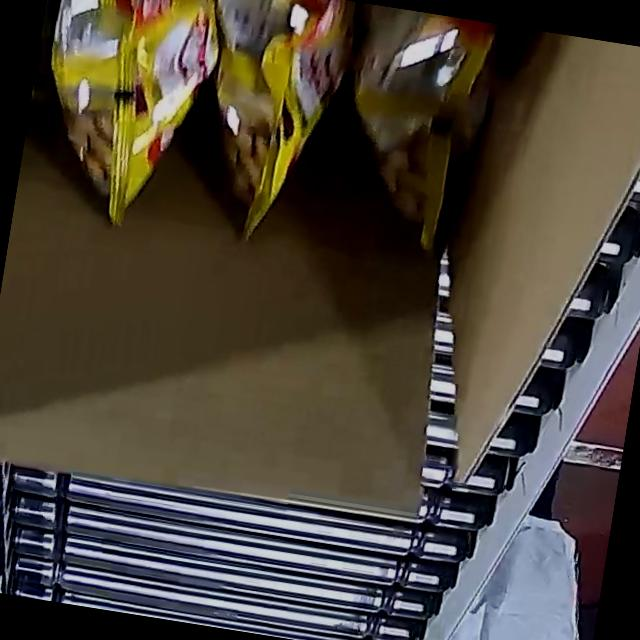salted: (13, 0, 479, 279)
